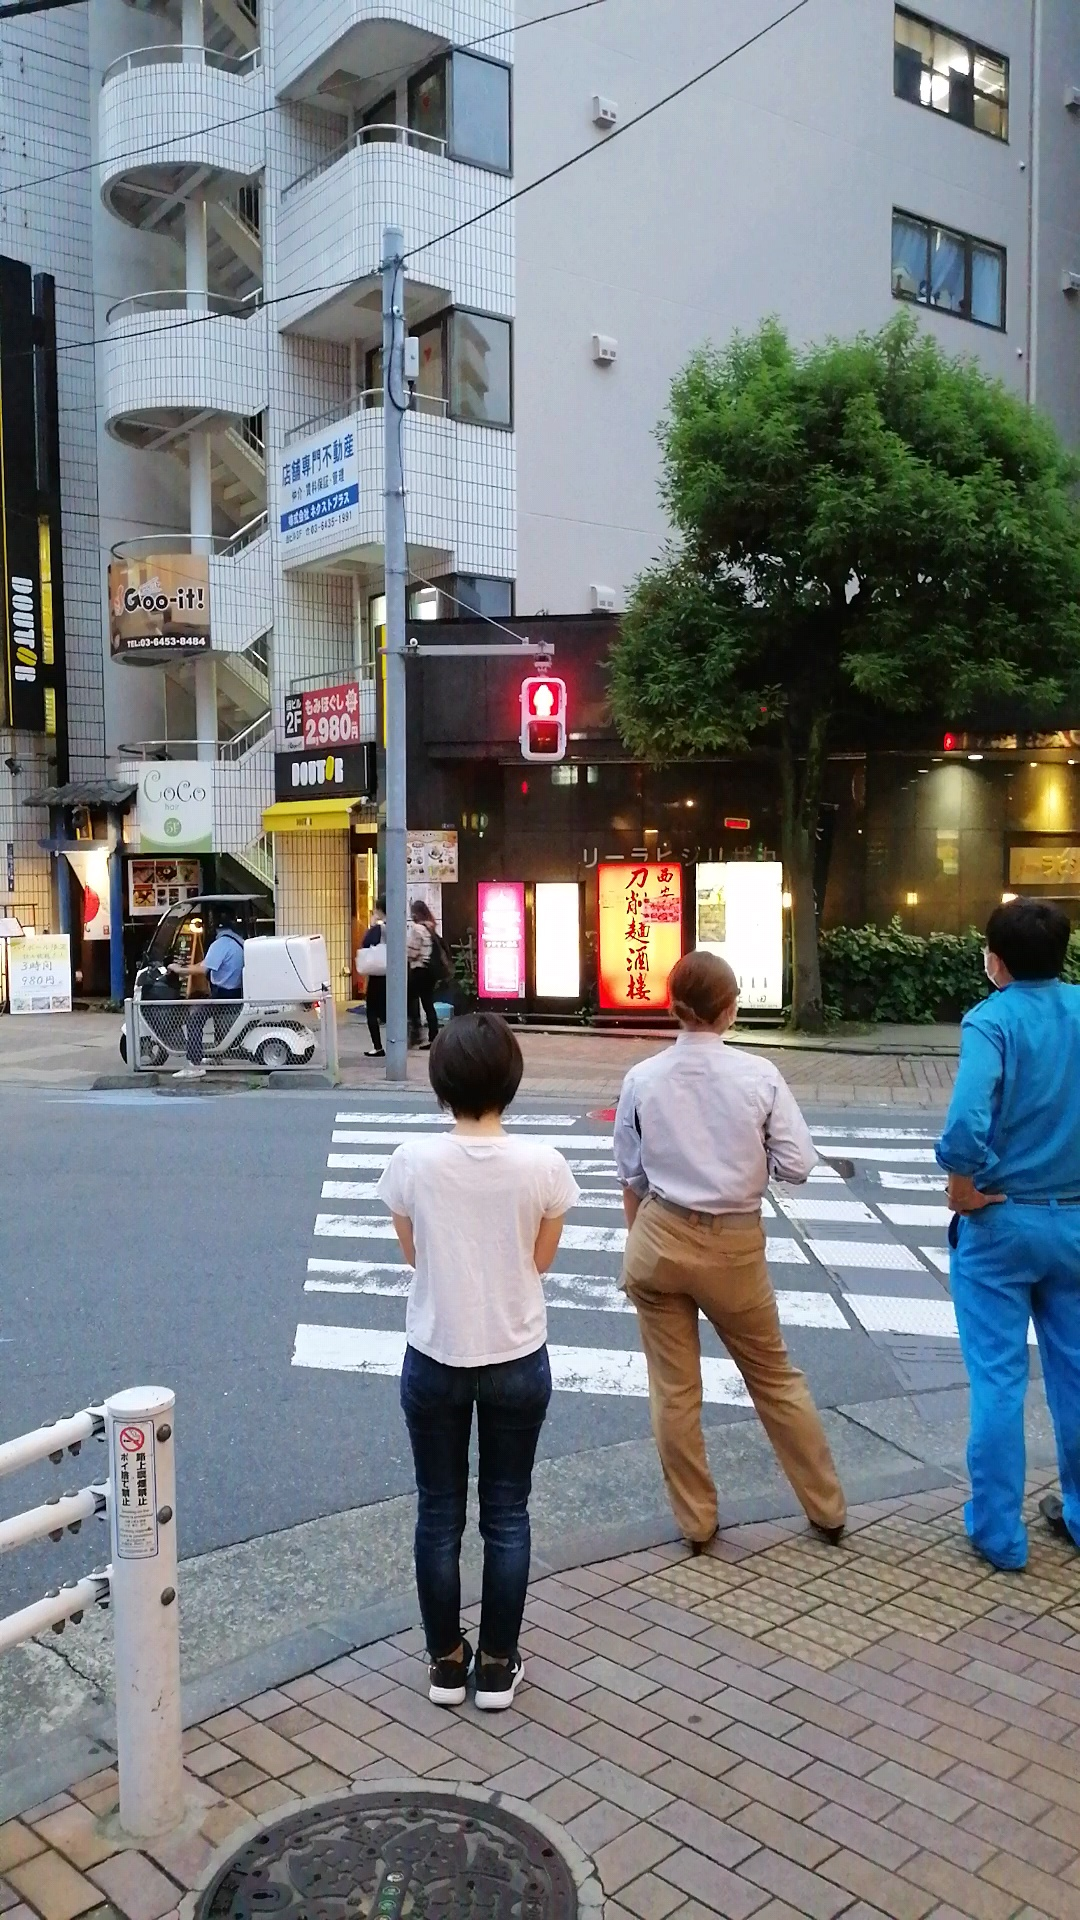red: (520, 676, 566, 761)
